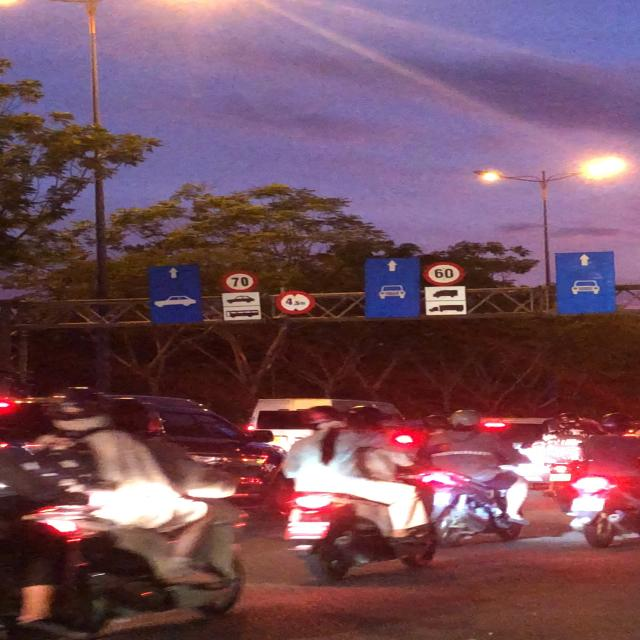Bien bao han che chieu cao: (274, 288, 319, 317)
Bien bao toc do toi da cho phep: (418, 260, 467, 287), (214, 269, 261, 295)
